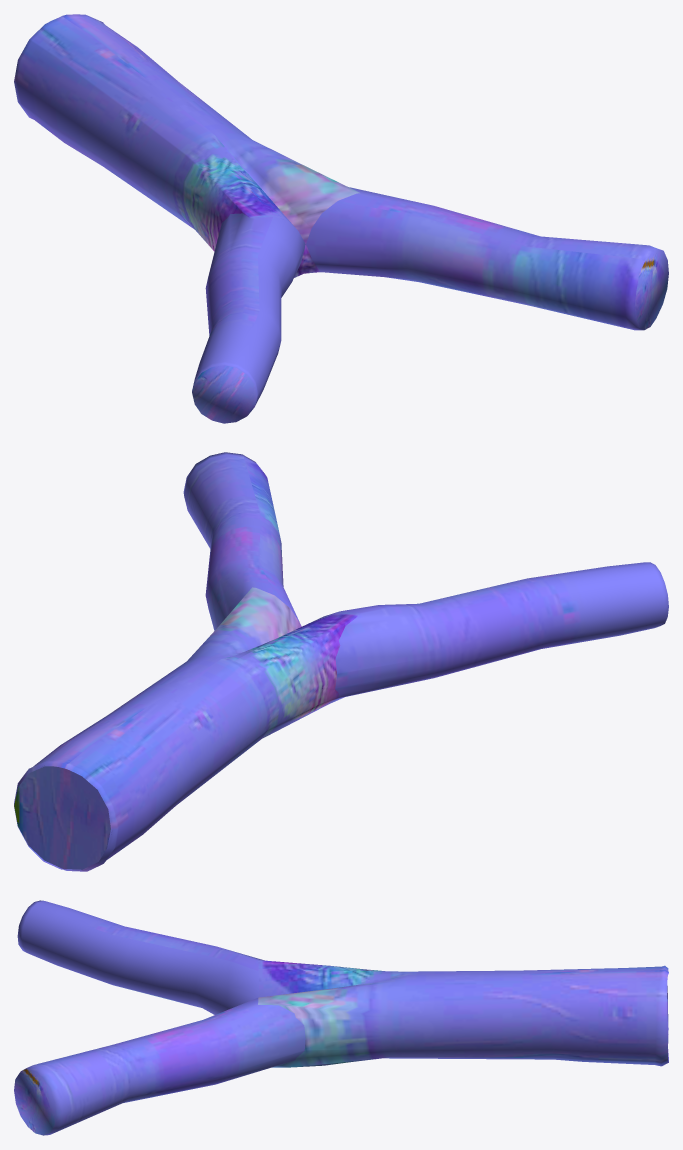
File: Slingshot.glb
3 views of the same model, one above another, from view 1: azimuth 30°, elevation 25°; view 2: azimuth 150°, elevation 25°; view 3: azimuth 270°, elevation 25° (orthographic). The views are drawn at different scales.
Parts seen in each view (by area): view 1: Slingshot; view 2: Slingshot; view 3: Slingshot.
Boxes of the visible parts, x1=… form: Slingshot: x1=14, y1=14, x2=668, y2=423; Slingshot: x1=14, y1=452, x2=668, y2=871; Slingshot: x1=14, y1=900, x2=668, y2=1135.
Bounding box in the file's own units: 2.35 × 0.5078 × 3.29.
1 material, 1 textured.
